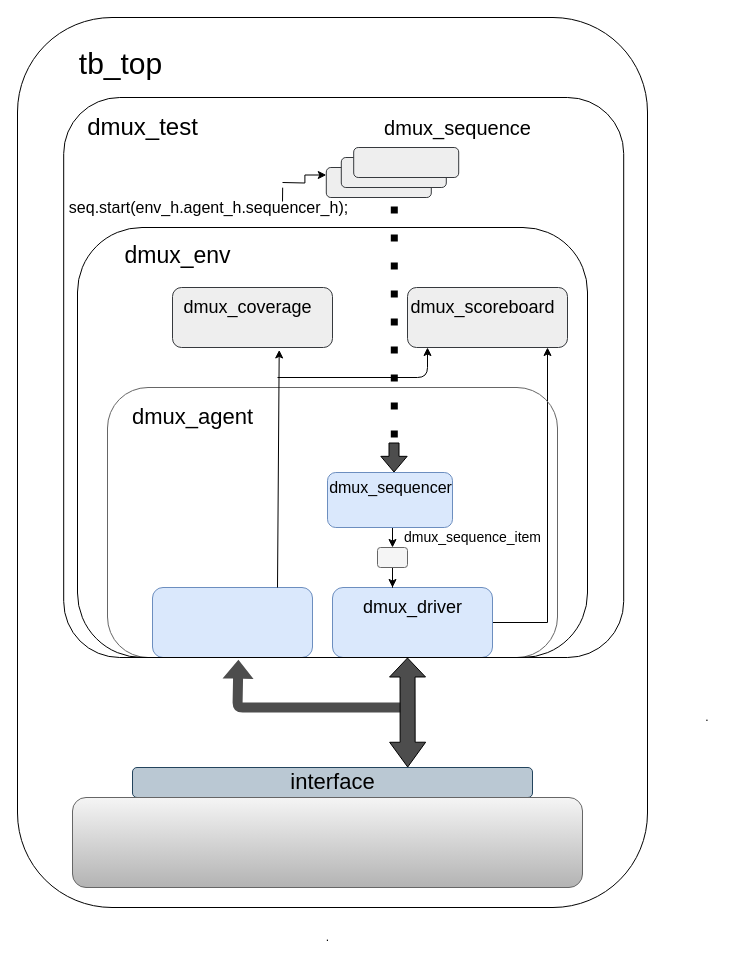
Some shapes in this 745 by 965 pixel diagram are drawn without their labels. The box of each missing label's shape, as (x1, y1, x2, y2) in pixels:
DMUX (DUT): (72, 796, 582, 888)
dmux_monitor: (152, 586, 312, 658)
